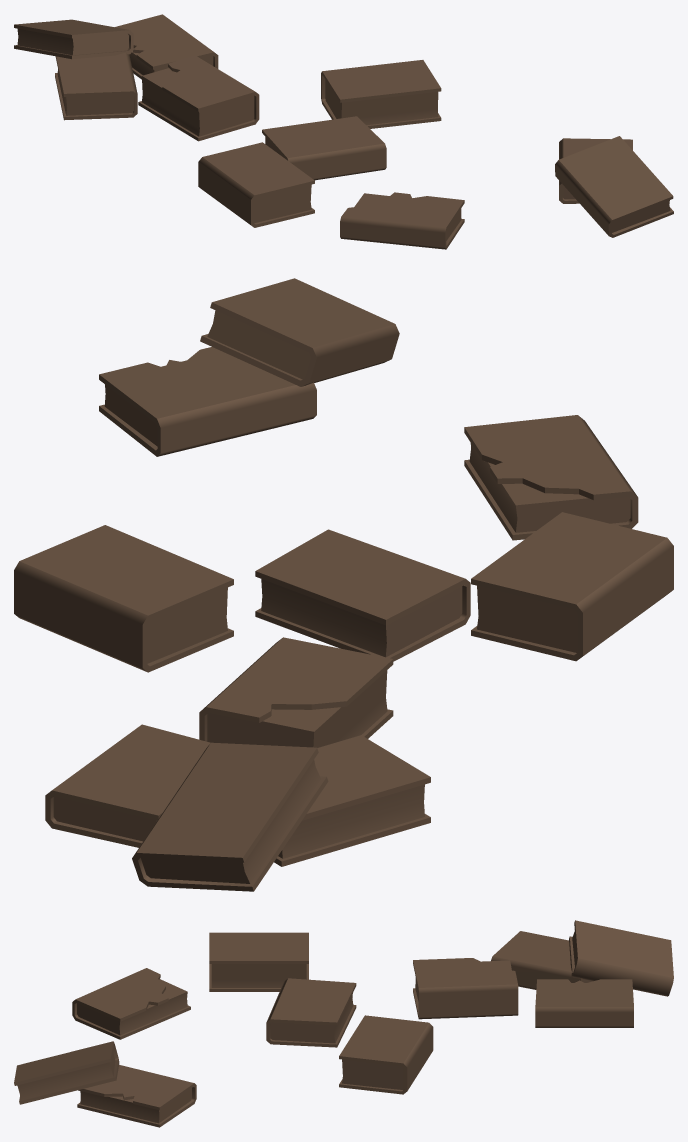
The picture shows the model from 3 angles, top to bottom: view 1: azimuth 30°, elevation 25°; view 2: azimuth 150°, elevation 25°; view 3: azimuth 270°, elevation 25°; orthographic projection. The views are drawn at different scales.
Parts seen in each view (by area): view 1: SM_DR_Bench_A_LOD0; view 2: SM_DR_Bench_A_LOD0; view 3: SM_DR_Bench_A_LOD0.
Part boxes in pixels (bbox=[...]): SM_DR_Bench_A_LOD0: bbox=[14, 14, 673, 249]; SM_DR_Bench_A_LOD0: bbox=[14, 278, 673, 891]; SM_DR_Bench_A_LOD0: bbox=[14, 920, 673, 1127].
Bounding box in the file's own units: 1.6 × 0.24 × 2.53.
